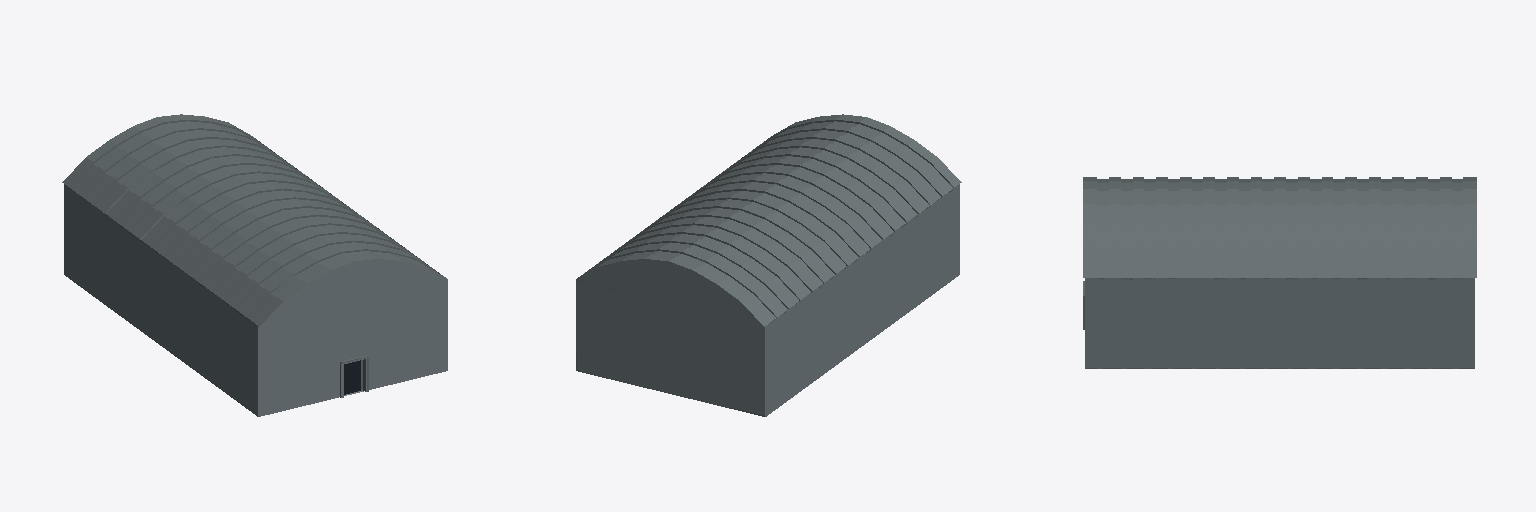
The picture shows the model from 3 angles: view 1: azimuth 30°, elevation 25°; view 2: azimuth 150°, elevation 25°; view 3: azimuth 270°, elevation 25°; orthographic projection.
Visible parts, largest first — view 1: Cube; view 2: Cube; view 3: Cube.
Boxes of the visible parts, x1,y1,x2,y2 form: Cube: [62, 114, 447, 416]; Cube: [576, 114, 961, 416]; Cube: [1083, 177, 1476, 368].
Bounding box in the file's own units: 3.48 × 2.34 × 6.27.
1 materials, 1 textured.